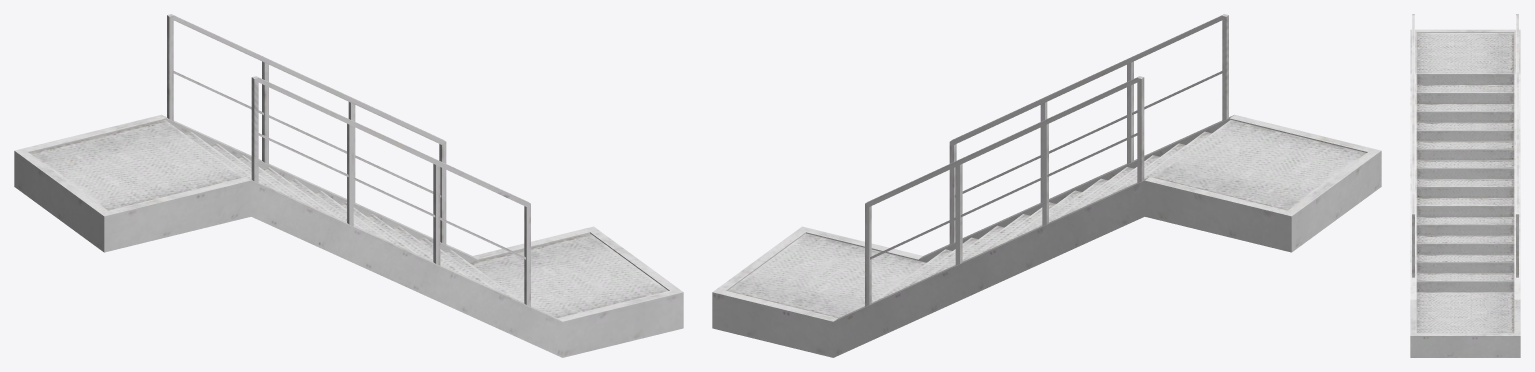
The model's file is S_StairSystem_02a.dae.
3 renders of one model, left to right at view 1: azimuth 30°, elevation 25°; view 2: azimuth 150°, elevation 25°; view 3: azimuth 270°, elevation 25°, orthographic. The views are drawn at different scales.
Visible parts, largest first — view 1: S_StairSystem_02a.003; view 2: S_StairSystem_02a.003; view 3: S_StairSystem_02a.003.
Part boxes in pixels (x1,y1,x2,y2): S_StairSystem_02a.003: (14, 14, 683, 357); S_StairSystem_02a.003: (712, 14, 1381, 357); S_StairSystem_02a.003: (1410, 14, 1520, 357).
Bounding box in the file's own units: 53.6 × 14.4 × 31.2.
